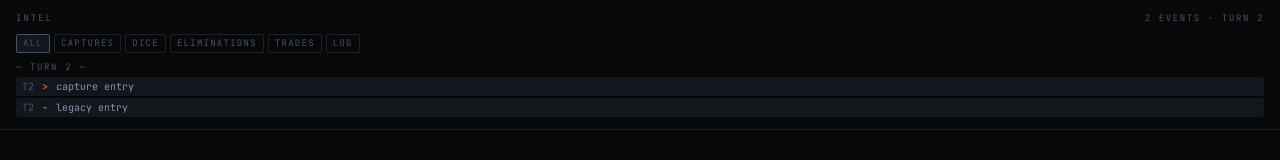
Test: IntelPanel › treats entries without an explicit kind as the log category
Click the button with aria-label "filter-log" at (343, 43), box [326,34,360,53]
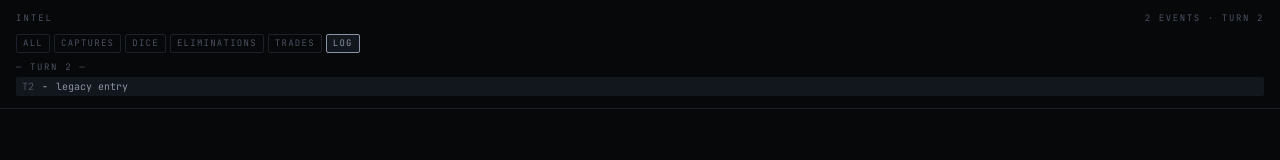
Result: the number of list items is 1 at [16,76,1264,96]
Result: the list item shows "legacy entry" at [56,80,128,92]
